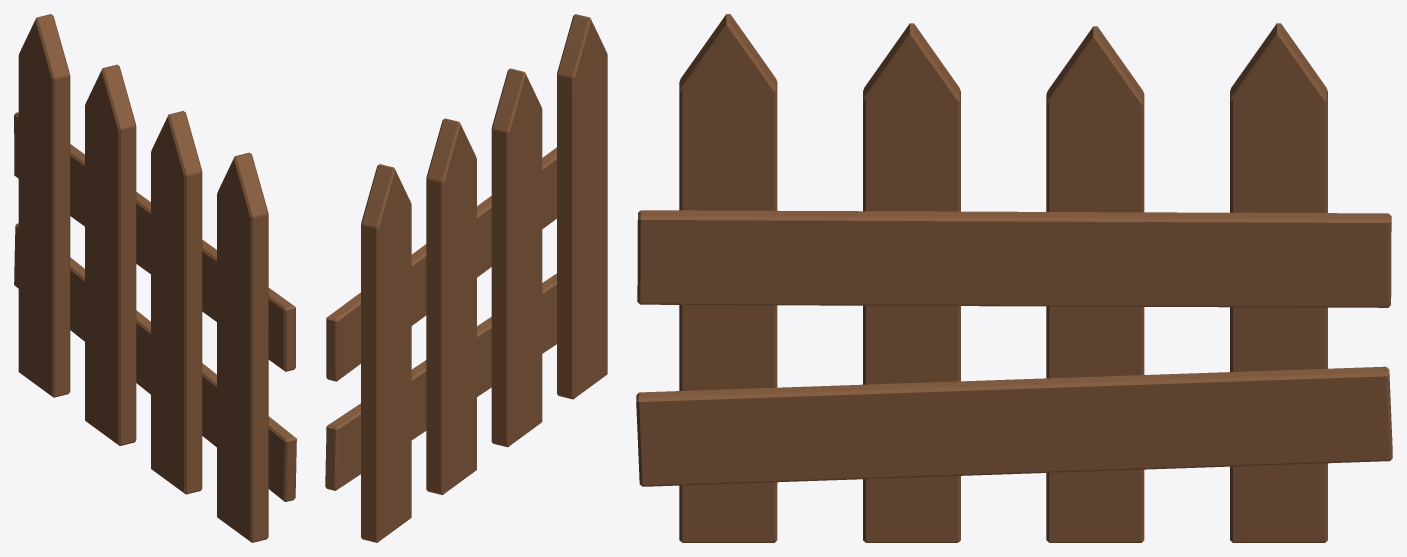
Rendered from Fence.fbx.
The picture shows the model from 3 angles, left to right: view 1: azimuth 30°, elevation 25°; view 2: azimuth 150°, elevation 25°; view 3: azimuth 270°, elevation 25°; orthographic projection. The views are drawn at different scales.
Visible parts, largest first — view 1: polySurface1; view 2: polySurface1; view 3: polySurface1.
Part boxes in pixels (box(x1,y1,x2,y2)): polySurface1: box(14, 14, 296, 542); polySurface1: box(325, 14, 607, 542); polySurface1: box(636, 14, 1392, 542).
Bounding box in the file's own units: 34.9 × 402 × 531.
